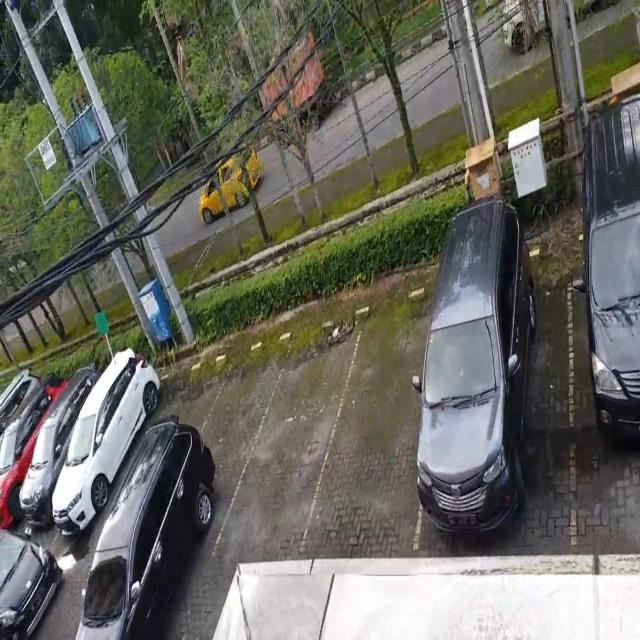empty: (326, 299, 420, 560), (244, 322, 328, 552), (191, 342, 256, 552)
occupied: (417, 256, 572, 551)
